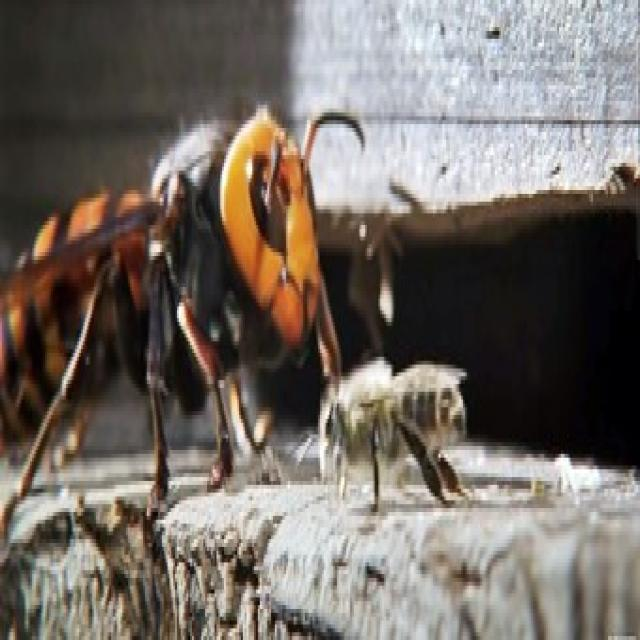Wasp: (0, 95, 356, 505)
